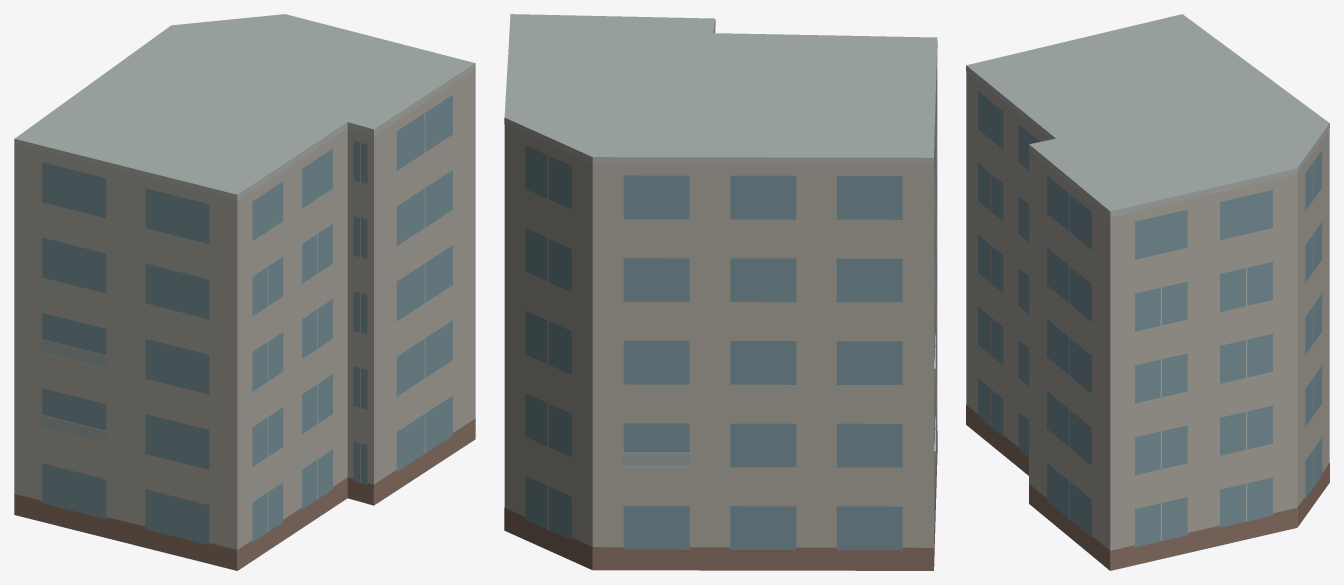
The model's file is survey-upis-32987805.glb.
3 views of the same model, side by side, from view 1: azimuth 30°, elevation 25°; view 2: azimuth 150°, elevation 25°; view 3: azimuth 270°, elevation 25° (orthographic). The views are drawn at different scales.
Visible parts, largest first — view 1: survey-upis-32987805.tmp; view 2: survey-upis-32987805.tmp; view 3: survey-upis-32987805.tmp.
Boxes of the visible parts, x1,y1,x2,y2 form: survey-upis-32987805.tmp: (14, 14, 475, 570); survey-upis-32987805.tmp: (504, 14, 937, 570); survey-upis-32987805.tmp: (966, 14, 1329, 570).
Bounding box in the file's own units: 17.23 × 14.62 × 13.41.
